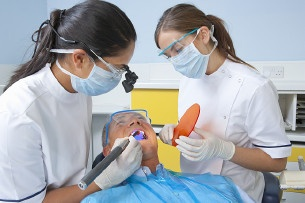Mask: (68, 37, 130, 98)
